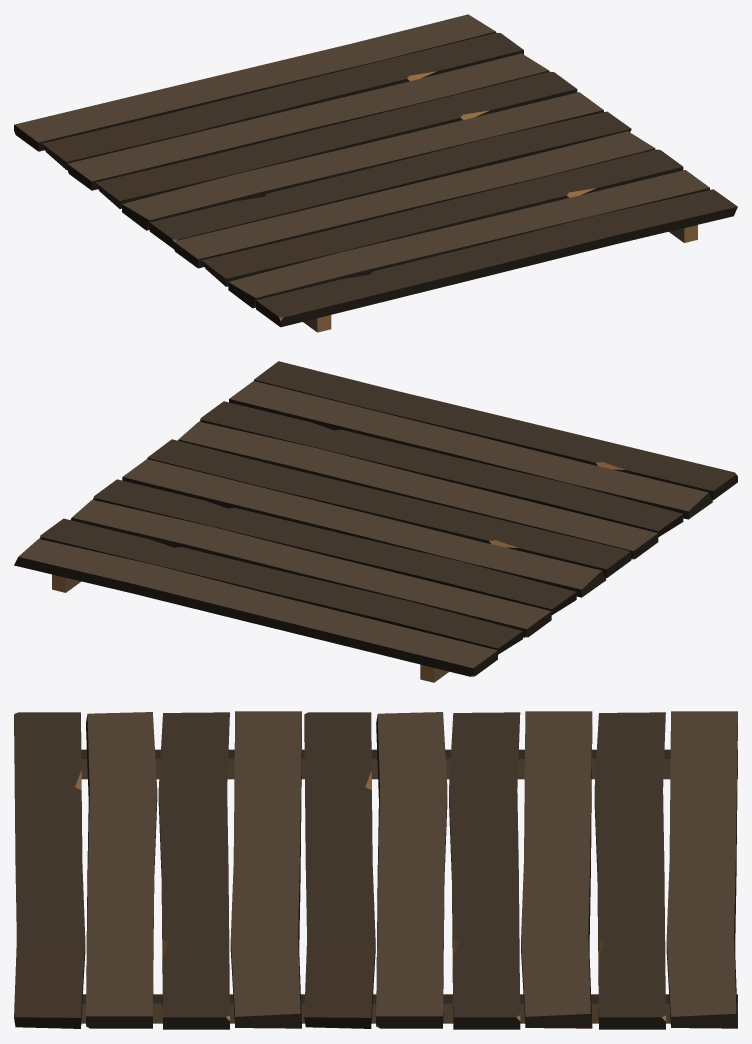
The model's file is Wood_Planks_2x2.fbx.
3 views of the same model, one above another, from view 1: azimuth 30°, elevation 25°; view 2: azimuth 150°, elevation 25°; view 3: azimuth 270°, elevation 25° (orthographic). The views are drawn at different scales.
Parts seen in each view (by area): view 1: Wood_Planks_2x2; view 2: Wood_Planks_2x2; view 3: Wood_Planks_2x2.
Part boxes in pixels (<box>): Wood_Planks_2x2: <box>14,14,737,332</box>; Wood_Planks_2x2: <box>14,361,737,682</box>; Wood_Planks_2x2: <box>14,711,737,1029</box>.
Size of the model in its own units: 2 by 0.1 by 2.
